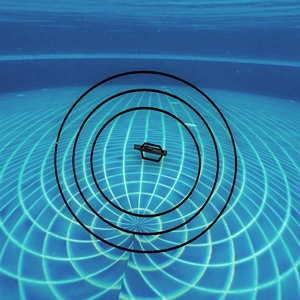submarine: (137, 138, 166, 162)
